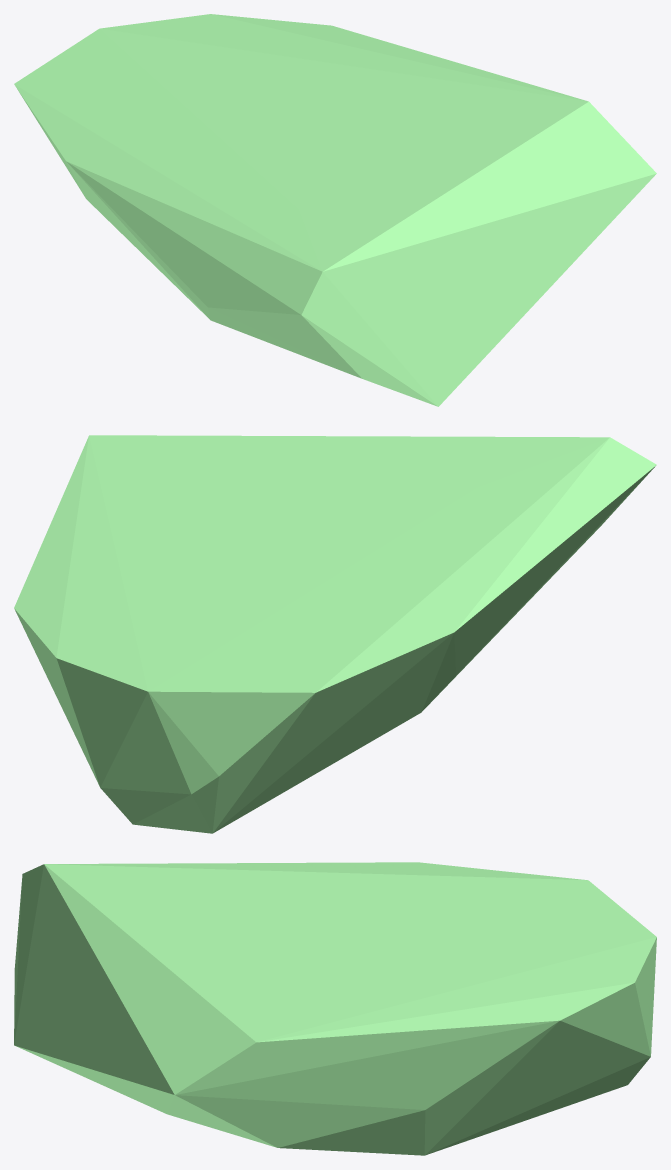
Rendered from linkhou_LR4_R560_link2_respondable_coll_9.dae.
3 renders of one model, top to bottom at view 1: azimuth 30°, elevation 25°; view 2: azimuth 150°, elevation 25°; view 3: azimuth 270°, elevation 25°, orthographic. The views are drawn at different scales.
Visible parts, largest first — view 1: Node_00000209DB3AA2F0; view 2: Node_00000209DB3AA2F0; view 3: Node_00000209DB3AA2F0.
Boxes of the visible parts, x1,y1,x2,y2 form: Node_00000209DB3AA2F0: [14, 14, 656, 406]; Node_00000209DB3AA2F0: [14, 435, 656, 833]; Node_00000209DB3AA2F0: [14, 862, 656, 1155].
Size of the model in its own units: 0.1603 by 0.0619 by 0.2104.
